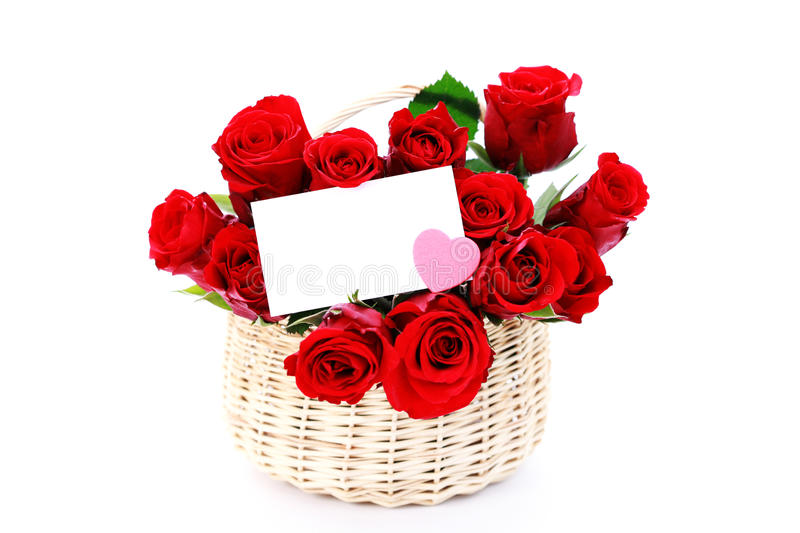RedRose: (204, 84, 313, 217), (381, 296, 492, 422), (480, 50, 581, 177), (275, 309, 391, 408), (473, 226, 574, 332), (203, 217, 283, 325), (142, 177, 223, 283), (537, 223, 618, 328), (570, 150, 654, 241), (453, 165, 535, 243), (386, 98, 463, 179), (300, 129, 386, 197)
